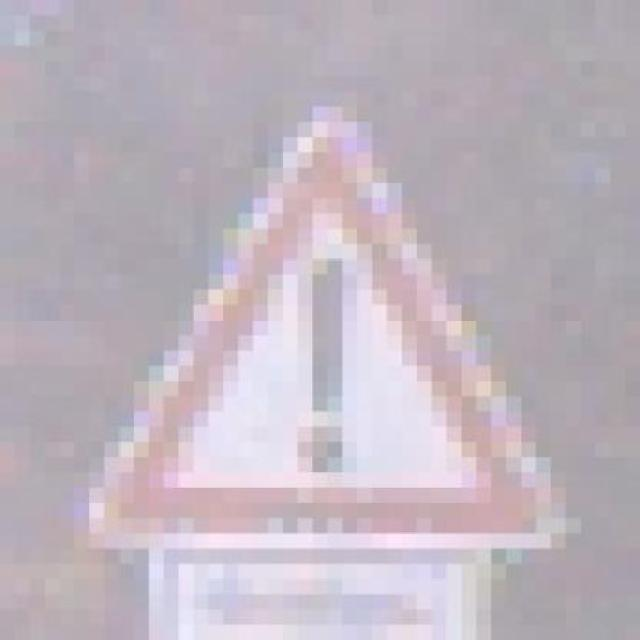Attention Please-: (29, 91, 566, 564)
